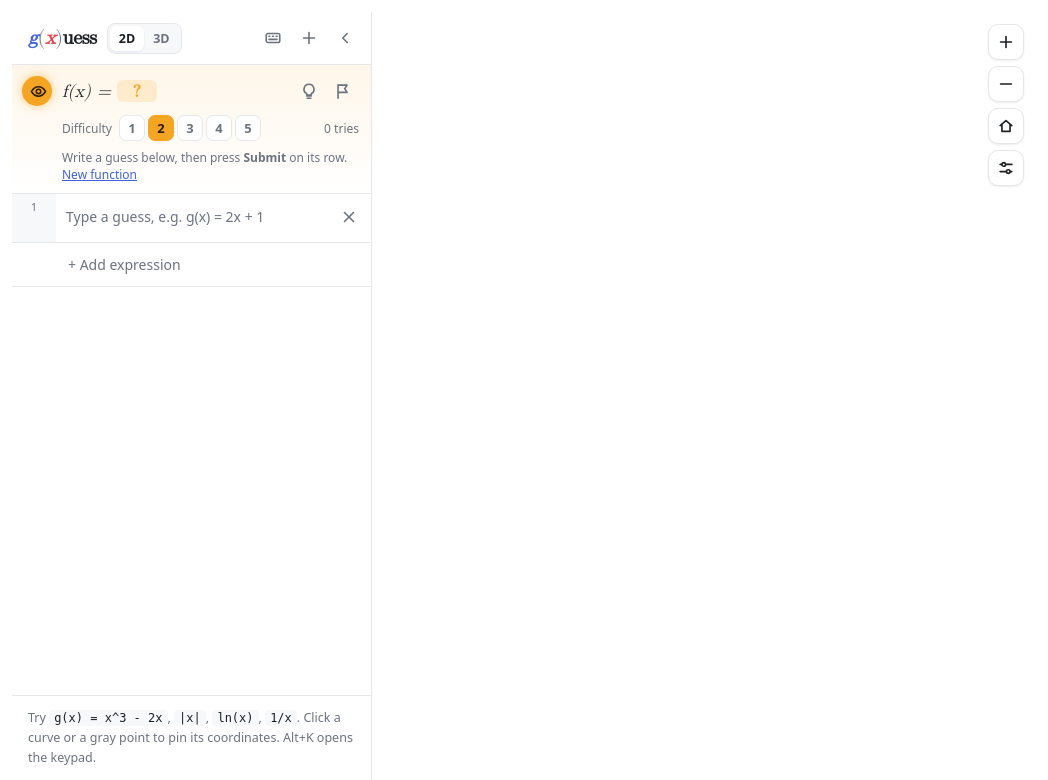
Test case: game mode in the app › pins a hidden f(x) = ? row with a working visibility toggle
Click the button named "Hide f(x) on the graph" at (37, 91), box x1=22 y1=76 x2=52 y2=106
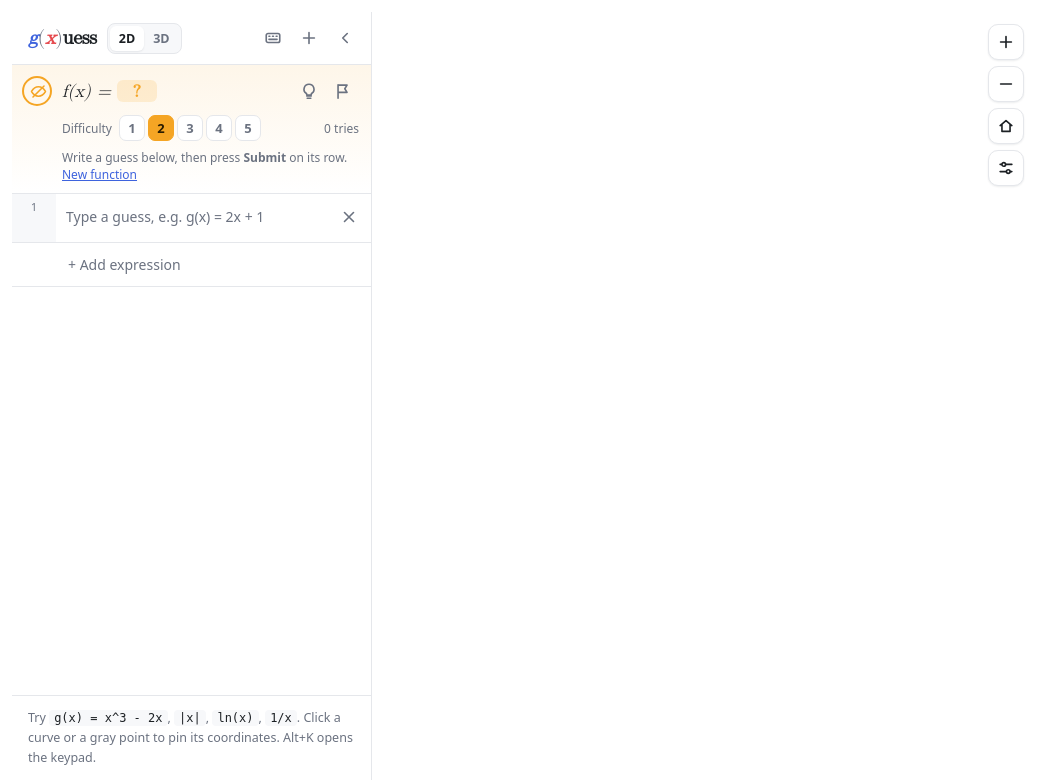
Expected: the button named "Show f(x) on the graph" is not pressed, x1=22 y1=76 x2=52 y2=106
